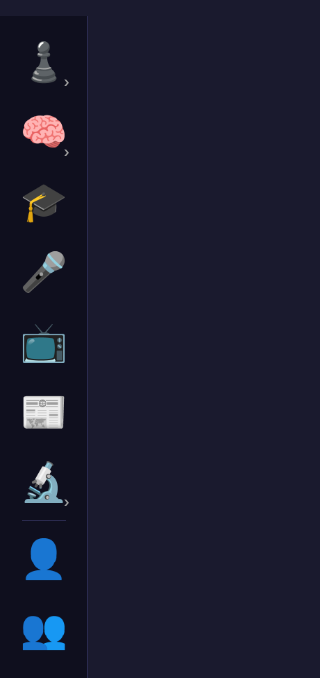
Test: <Sidebar> KS-2848 — Play submenu с Турнирами › desktop: tournamentsEnabled=false → подпункт «Турниры» скрыт, остаётся Play
The width and height of the screenshot is (320, 678).
Click the button with test id "sidebar-submenu-parent-play".
click(44, 62)  # box [14,32,74,92]
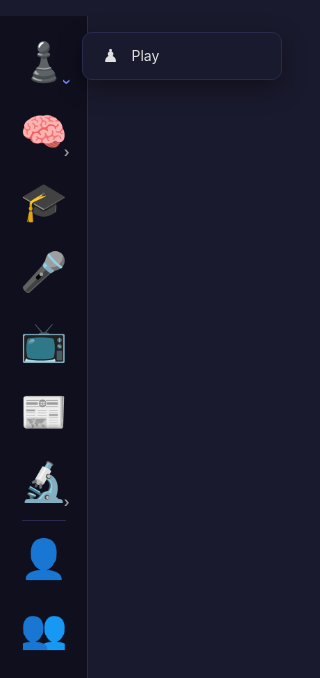
Expected: the menu item with test id "sidebar-submenu-item-play" is shown, [102,45,159,66]
